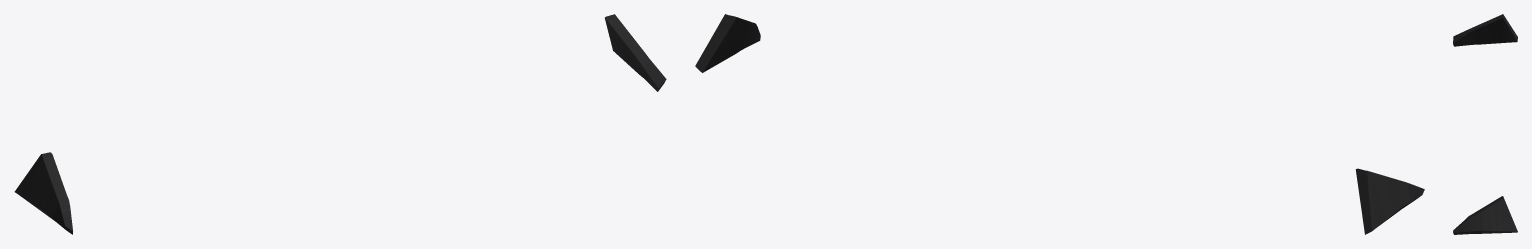
The model's file is rcfDoorEnd.obj.
3 views of the same model, side by side, from view 1: azimuth 30°, elevation 25°; view 2: azimuth 150°, elevation 25°; view 3: azimuth 270°, elevation 25° (orthographic). The views are drawn at different scales.
Visible parts, largest first — view 1: rcfDoorEnd; view 2: rcfDoorEnd; view 3: rcfDoorEnd.
Part boxes in pixels (<box>): rcfDoorEnd: <box>14,14,666,234</box>; rcfDoorEnd: <box>695,14,1424,234</box>; rcfDoorEnd: <box>1453,14,1517,234</box>.
Size of the model in its own units: 156 by 12.93 by 21.99.
1 material, 1 textured.
